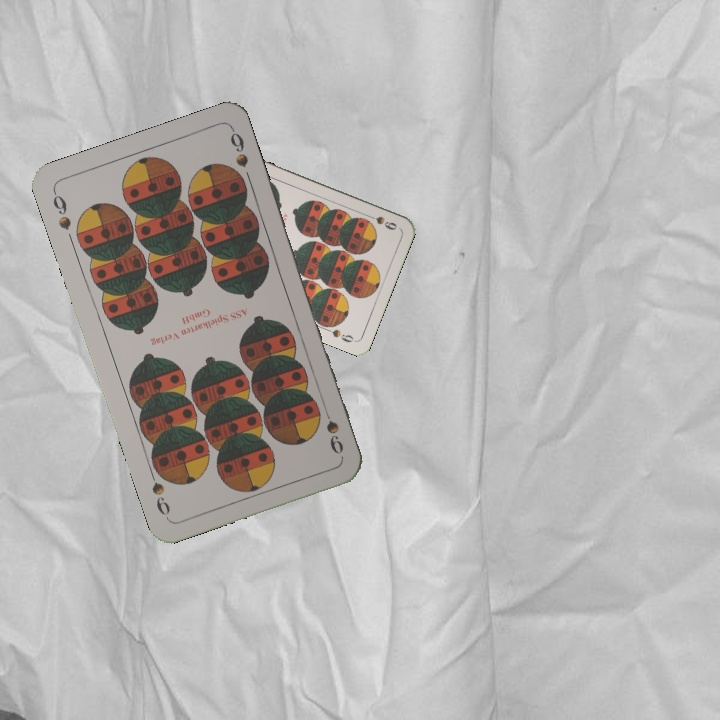S9: (320, 400, 346, 457), (49, 187, 74, 233), (362, 210, 400, 233)
